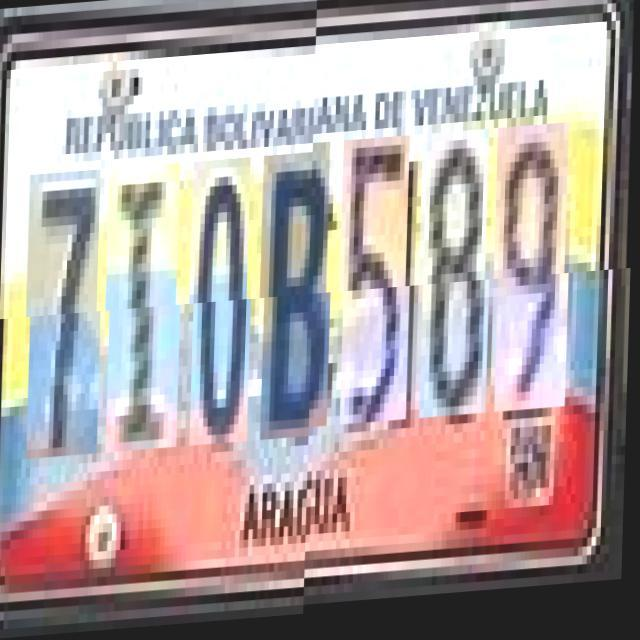5: (342, 151, 415, 440)
7: (29, 170, 106, 460)
8: (422, 146, 494, 434)
9: (497, 140, 574, 430)
B: (263, 156, 336, 445)
I: (108, 166, 186, 454)
O: (192, 161, 256, 449)
